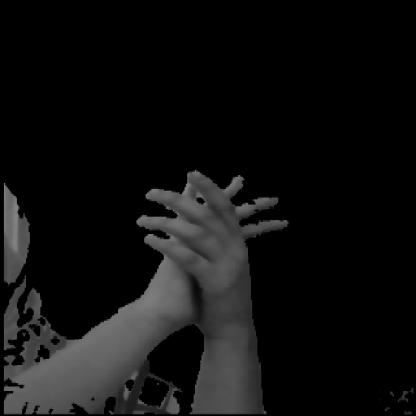clap: (66, 126, 308, 368)
